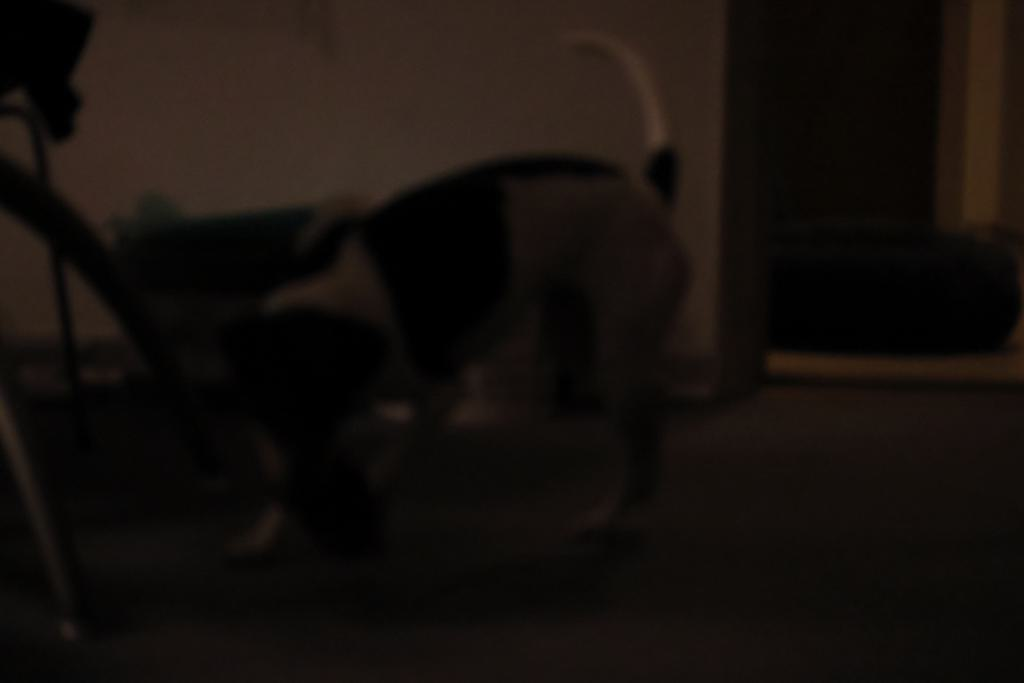Dog: (197, 12, 702, 569)
